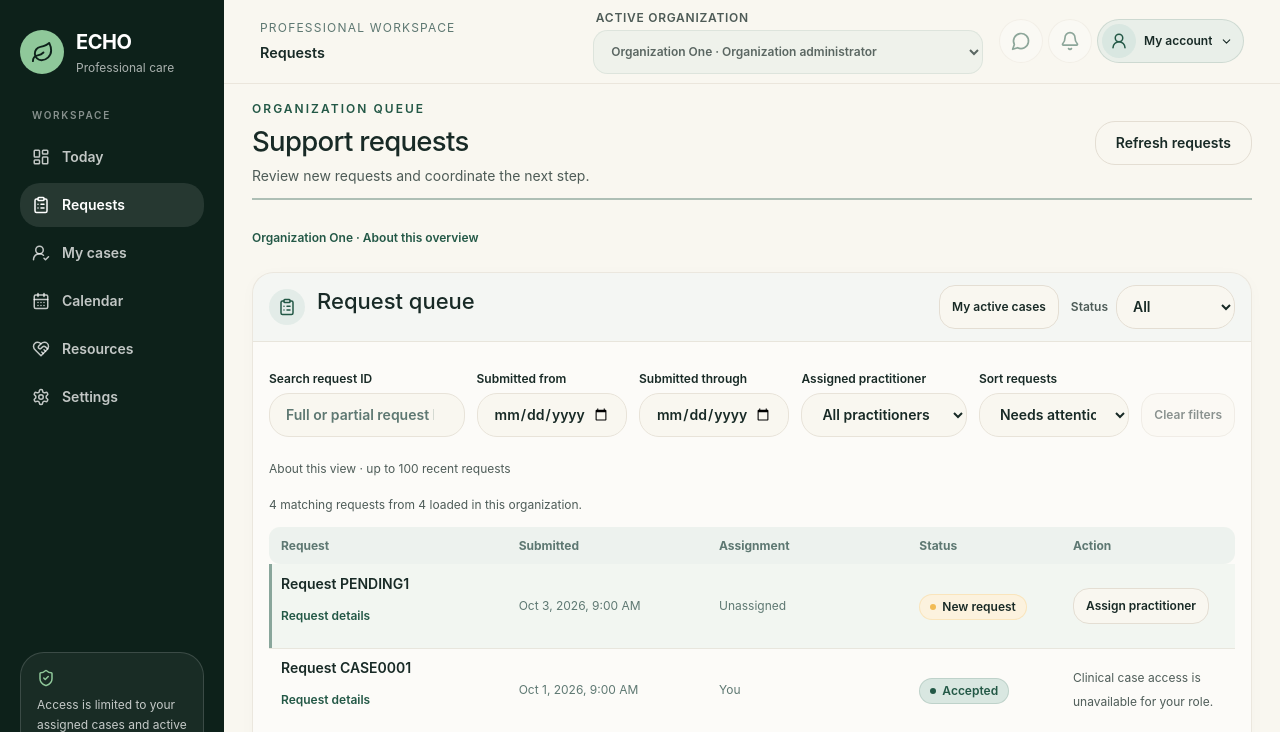
Scenario: org_admin assigns from Requests using eligible organization choices without opening clinical details
The width and height of the screenshot is (1280, 732).
Click the button "Assign practitioner": (1141, 606) [1073,588,1209,624]
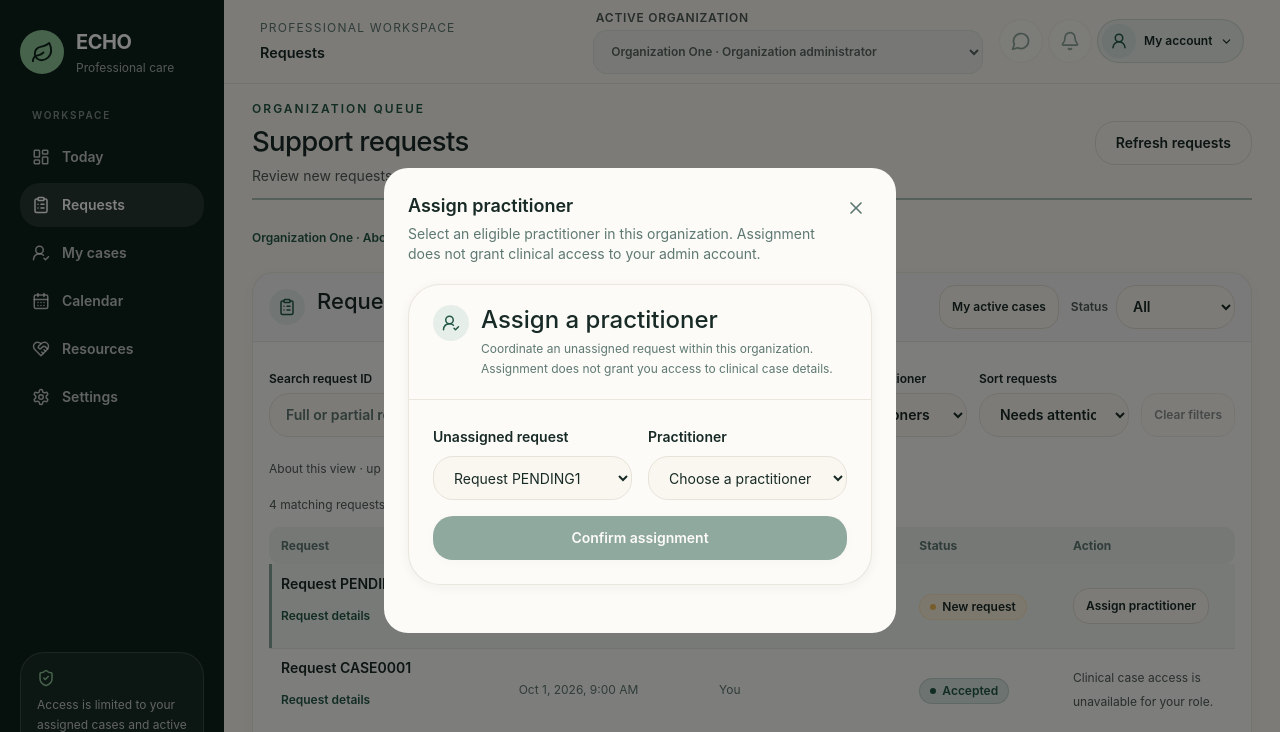
Select "Echo Demo Counselor · counselor" in the dropdown labelled "Practitioner": (748, 478) [648,456,847,500]
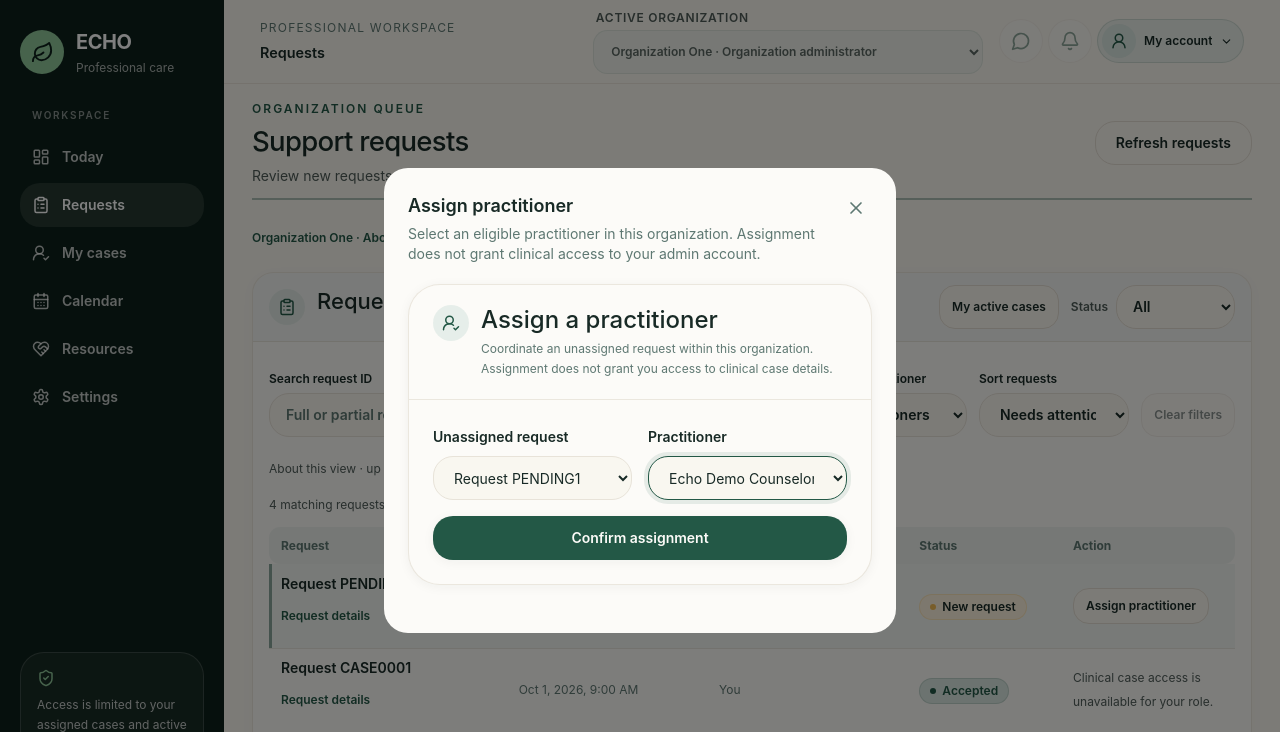
Click the button "Confirm assignment": (640, 538) [433,516,847,560]
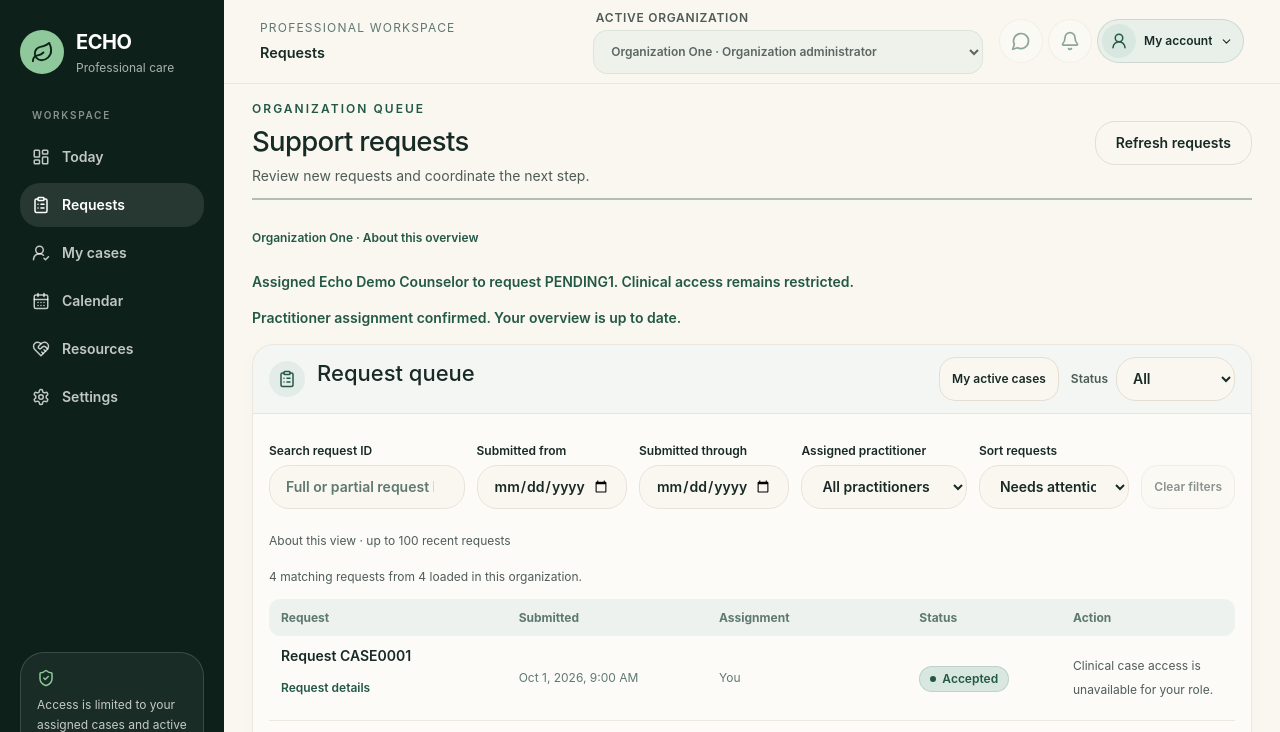
Expected: the text "Assigned Echo Demo Counselor to request PENDING1" is shown, [252,273,854,290]
